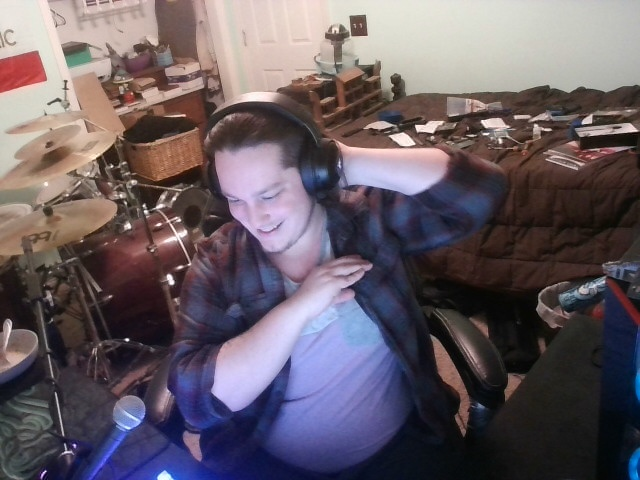police: (287, 254, 407, 338)
